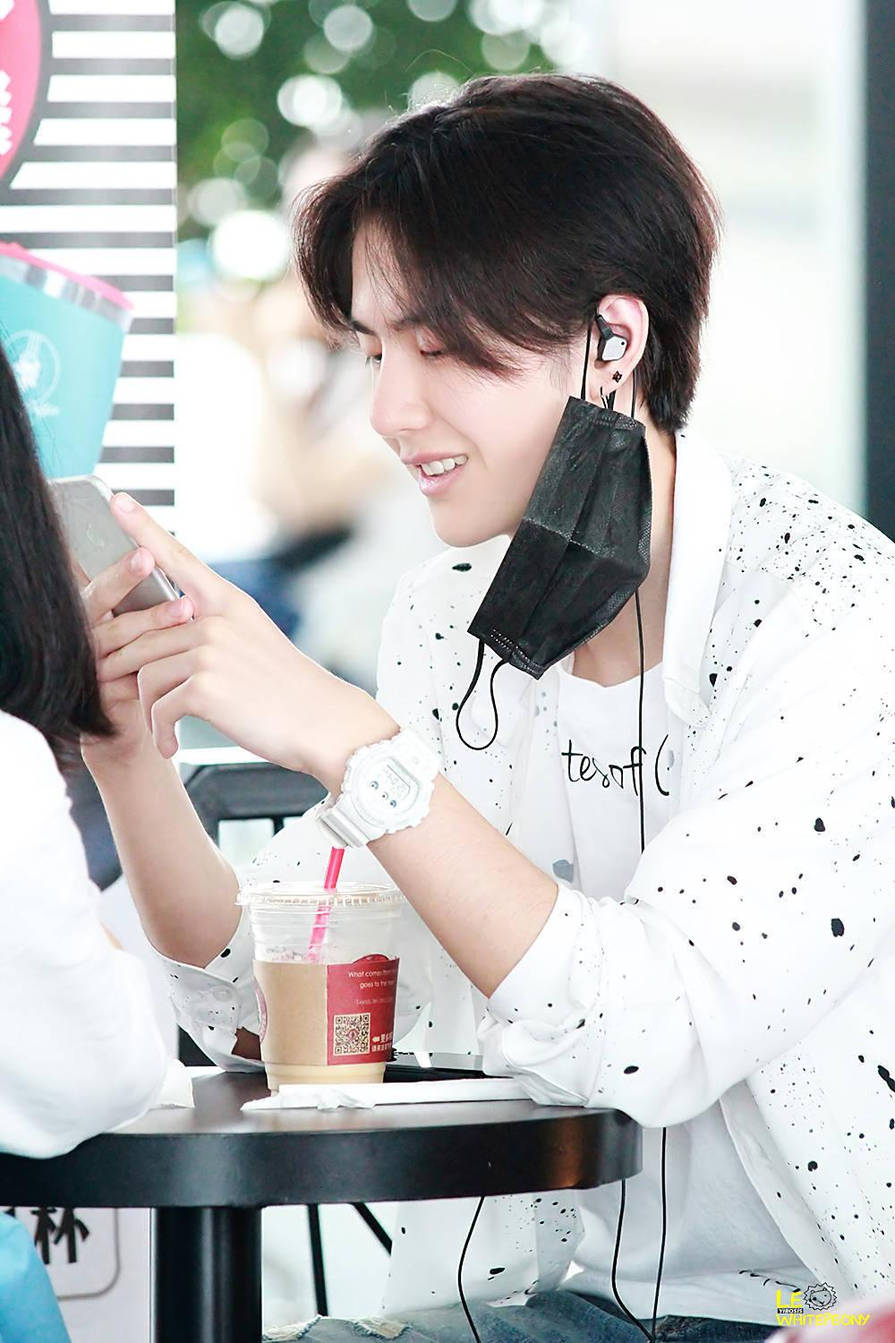WRONG: (351, 269, 578, 552)
